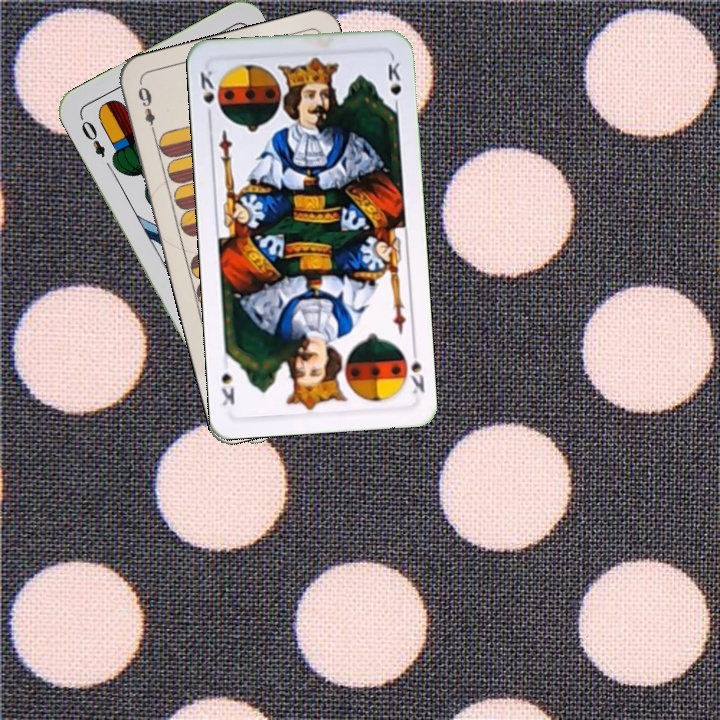E9: (133, 80, 159, 138)
EO: (75, 112, 108, 160)
SK: (398, 342, 427, 397), (196, 66, 217, 123)
